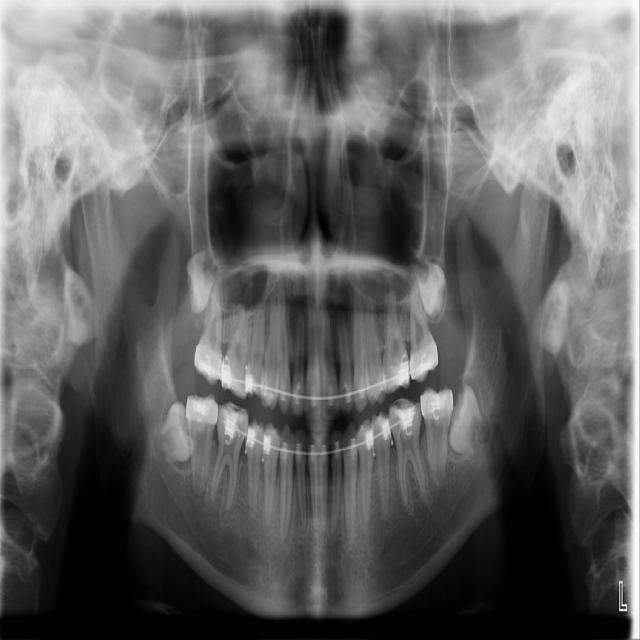3M ESPE Implant: (181, 249, 222, 316)
52: (191, 339, 227, 387), (419, 386, 454, 431), (186, 393, 218, 439), (409, 337, 439, 383)
BioHorizons Implant: (408, 272, 439, 383)
BioLife Implant: (411, 253, 454, 320)
Biomet 3i Implant: (444, 383, 489, 457)
Blue Sky Bio Implant: (420, 386, 455, 492)
Caries: (193, 274, 227, 386)
Implant: (186, 393, 218, 496)
Keystone Dental Implant: (153, 400, 197, 465)
